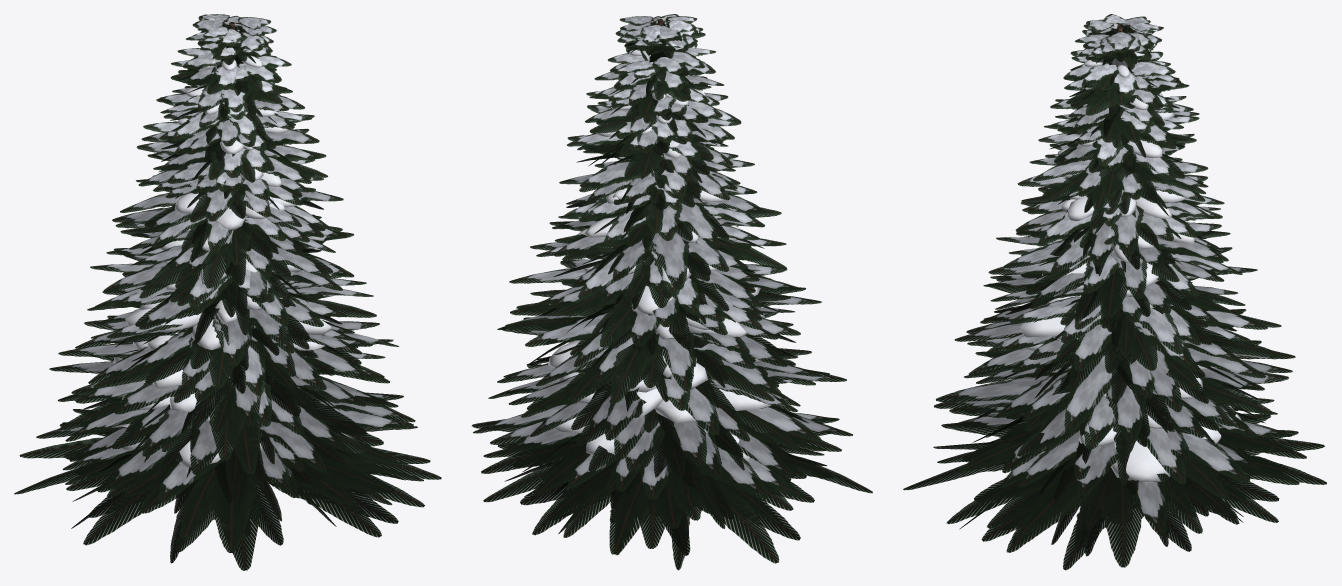
Rendered from pines.glb.
3 renders of one model, left to right at view 1: azimuth 30°, elevation 25°; view 2: azimuth 150°, elevation 25°; view 3: azimuth 270°, elevation 25°, orthographic.
Visible parts, largest first — view 1: pine_a__frond, pine_b__frond, pine_far__frond, pine_distant__frond, pine_b__snow, pine_a__snow; view 2: pine_a__frond, pine_b__frond, pine_far__frond, pine_distant__frond, pine_a__snow, pine_b__snow; view 3: pine_a__frond, pine_b__frond, pine_far__frond, pine_distant__frond, pine_a__snow, pine_b__snow.
Boxes of the visible parts, x1,y1,x2,y2 form: pine_a__frond: [14, 15, 424, 563]; pine_b__frond: [19, 14, 441, 523]; pine_far__frond: [65, 19, 403, 540]; pine_distant__frond: [62, 14, 430, 570]; pine_b__snow: [113, 55, 301, 449]; pine_a__snow: [119, 84, 332, 467]; pine_a__frond: [473, 14, 872, 570]; pine_b__frond: [472, 16, 846, 539]; pine_far__frond: [483, 24, 853, 555]; pine_distant__frond: [498, 16, 829, 548]; pine_a__snow: [548, 49, 777, 462]; pine_b__snow: [548, 46, 770, 455]; pine_a__frond: [934, 14, 1326, 556]; pine_b__frond: [936, 16, 1299, 570]; pine_far__frond: [903, 20, 1324, 544]; pine_distant__frond: [933, 23, 1298, 535]; pine_a__snow: [1019, 65, 1221, 482]; pine_b__snow: [1053, 60, 1242, 447].
Size of the model in its own units: 7.83 by 10 by 7.82.
Materials: 4 (4 with a texture image).
